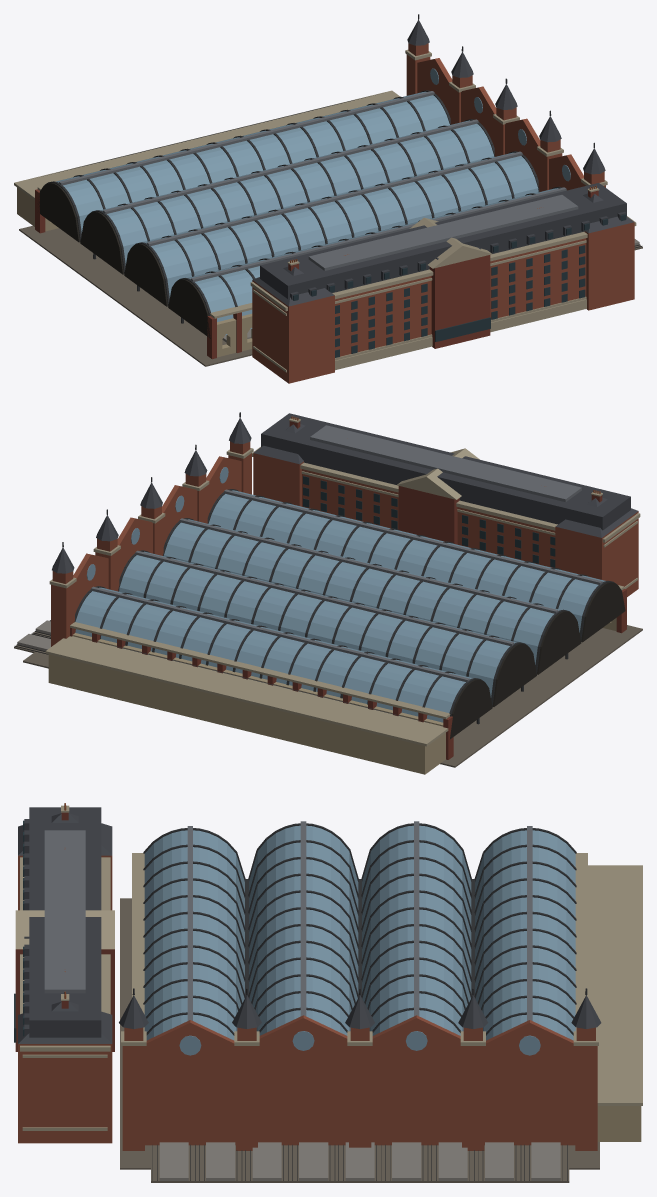
File: liverpool_street_station.glb
The picture shows the model from 3 angles, top to bottom: view 1: azimuth 30°, elevation 25°; view 2: azimuth 150°, elevation 25°; view 3: azimuth 270°, elevation 25°; orthographic projection. The views are drawn at different scales.
Parts seen in each view (by area): view 1: liverpool_street_station; view 2: liverpool_street_station; view 3: liverpool_street_station.
Part boxes in pixels (x1,y1,x2,y2): liverpool_street_station: (14,14,642,383); liverpool_street_station: (14,412,642,774); liverpool_street_station: (14,803,642,1182).
Bounding box in the file's own units: 195 × 51.3 × 183.
